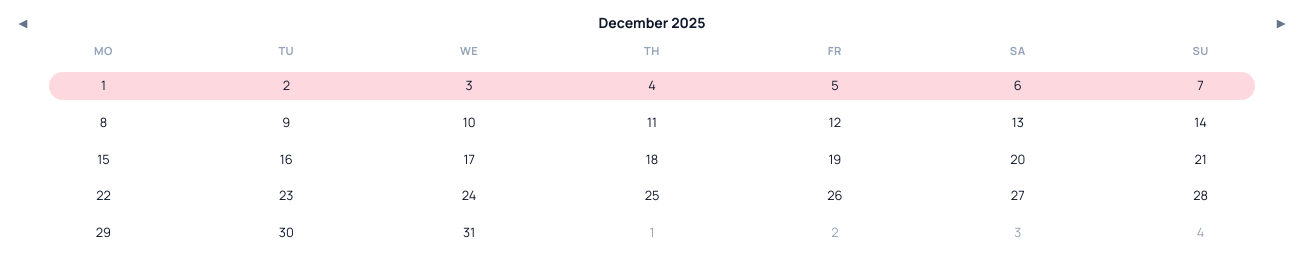
Test: PlanSpanCalendar — month navigation › wraps from December to January when navigating forward
Expected: the text "December 2025" is shown, [598, 13, 706, 32]
Step 1. Click the button named "next month" → (1281, 23), box [1270, 14, 1292, 32]
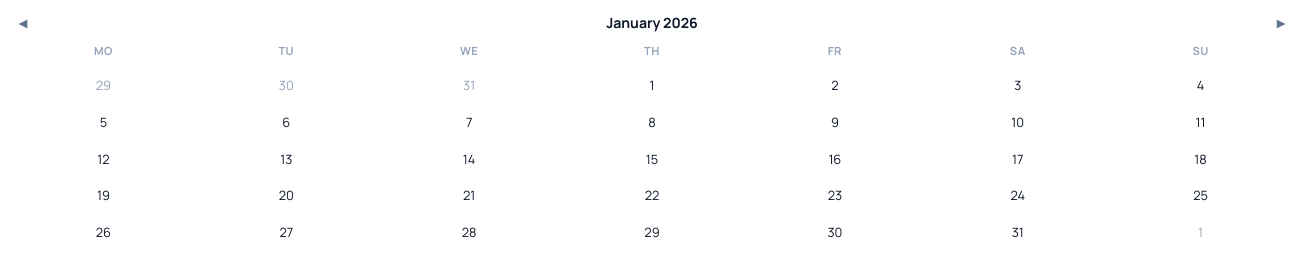
Result: the text "January 2026" is shown at [606, 13, 698, 32]
